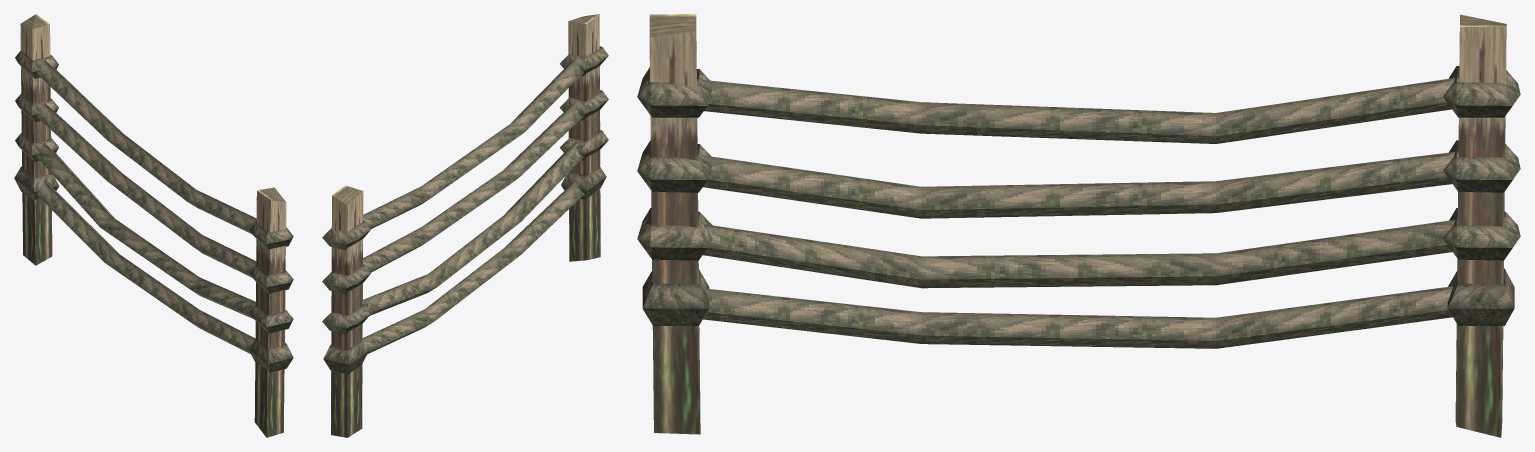
The model's file is C1SMROPEFENCE.obj.
3 views of the same model, side by side, from view 1: azimuth 30°, elevation 25°; view 2: azimuth 150°, elevation 25°; view 3: azimuth 270°, elevation 25° (orthographic). The views are drawn at different scales.
Parts seen in each view (by area): view 1: Node 0; view 2: Node 0; view 3: Node 0.
Boxes of the visible parts, x1,y1,x2,y2 form: Node 0: [14, 14, 293, 437]; Node 0: [322, 14, 608, 437]; Node 0: [637, 14, 1520, 437].
Bounding box in the file's own units: 0.68 × 5.13 × 10.04.
Materials: 2 (2 with a texture image).
